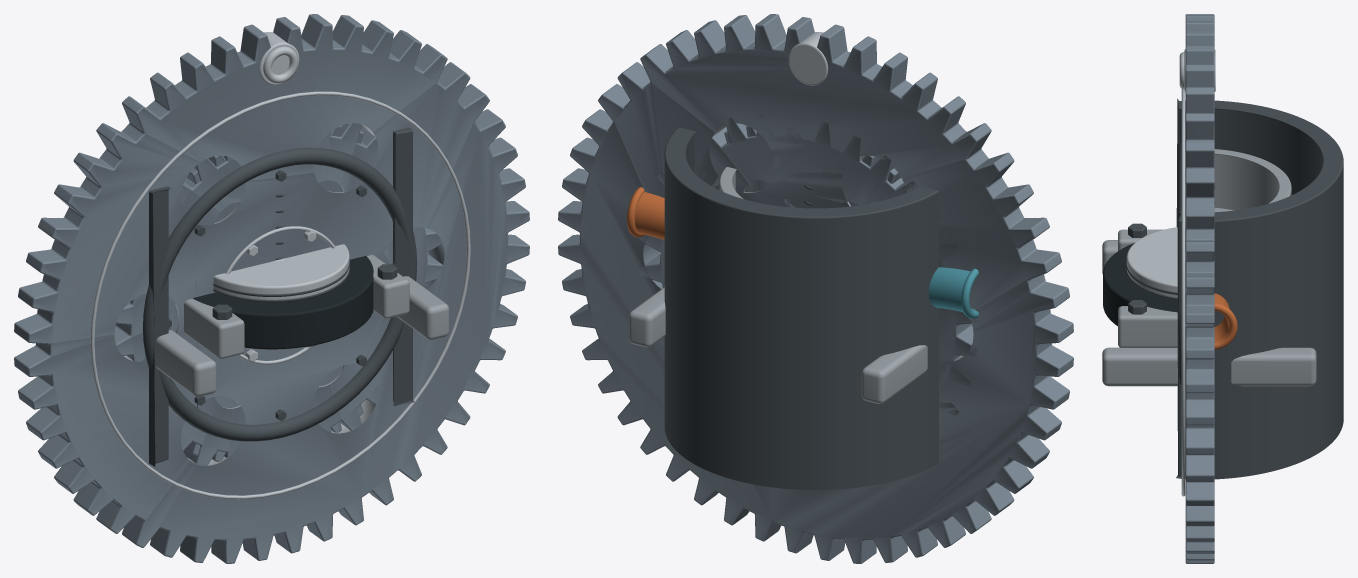
Rendered from mechanical-parts.glb.
3 views of the same model, side by side, from view 1: azimuth 30°, elevation 25°; view 2: azimuth 150°, elevation 25°; view 3: azimuth 270°, elevation 25° (orthographic). The views are drawn at different scales.
Parts seen in each view (by area): view 1: Gear48, RingGear, Carrier, Gear32, Wheel, Piston, Head, ConnectingRod, Gear16; view 2: Gear48, Carrier, Gear32, IntakePort, ExhaustPort, ConnectingRod, RingGear; view 3: Carrier, Gear48, CylinderShell, Head, Piston, Wheel, RingGear, ExhaustPort, ConnectingRod.
Boxes of the visible parts, x1=… form: Gear48: x1=14, y1=14, x2=529, y2=563; RingGear: x1=126, y1=126, x2=417, y2=461; Carrier: x1=116, y1=127, x2=449, y2=466; Gear32: x1=114, y1=123, x2=442, y2=465; Wheel: x1=193, y1=256, x2=373, y2=349; Piston: x1=213, y1=244, x2=349, y2=350; Head: x1=184, y1=255, x2=409, y2=358; ConnectingRod: x1=260, y1=32, x2=299, y2=85; Gear16: x1=225, y1=226, x2=335, y2=364; Gear48: x1=558, y1=14, x2=1073, y2=563; Carrier: x1=629, y1=127, x2=972, y2=490; Gear32: x1=639, y1=114, x2=977, y2=417; IntakePort: x1=928, y1=267, x2=978, y2=318; ExhaustPort: x1=627, y1=187, x2=664, y2=239; ConnectingRod: x1=788, y1=32, x2=828, y2=85; RingGear: x1=724, y1=126, x2=961, y2=360; Carrier: x1=1102, y1=98, x2=1343, y2=479; Gear48: x1=1181, y1=14, x2=1214, y2=563; CylinderShell: x1=1214, y1=149, x2=1291, y2=210; Head: x1=1118, y1=208, x2=1234, y2=347; Piston: x1=1126, y1=227, x2=1177, y2=300; Wheel: x1=1103, y1=243, x2=1177, y2=326; RingGear: x1=1177, y1=139, x2=1185, y2=430; ExhaustPort: x1=1214, y1=293, x2=1237, y2=349; ConnectingRod: x1=1179, y1=49, x2=1215, y2=91.
Bounding box in the file's own units: 4.74 × 4.74 × 2.08.
